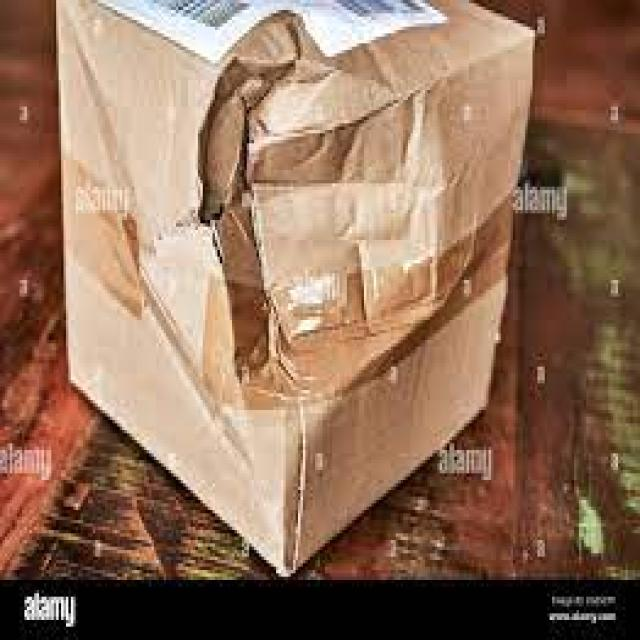Kardus kondisi bagus: (57, 1, 537, 579)
